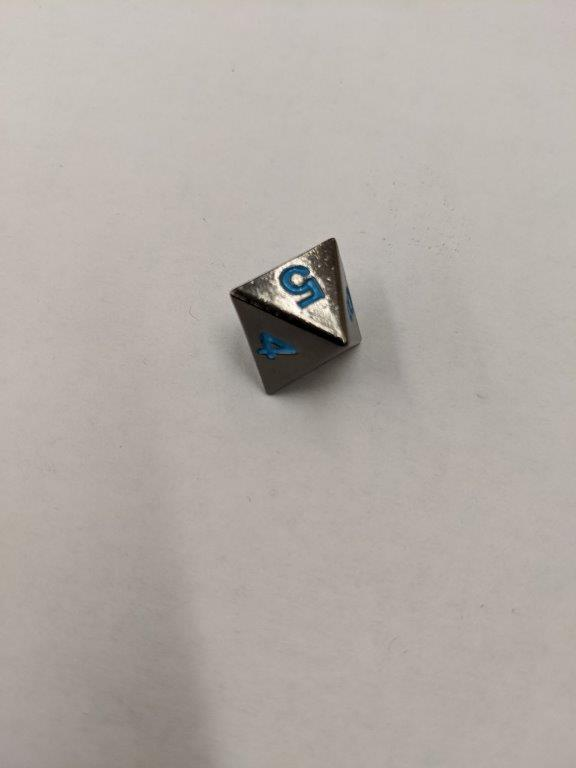d8-5: (230, 235, 362, 399)
